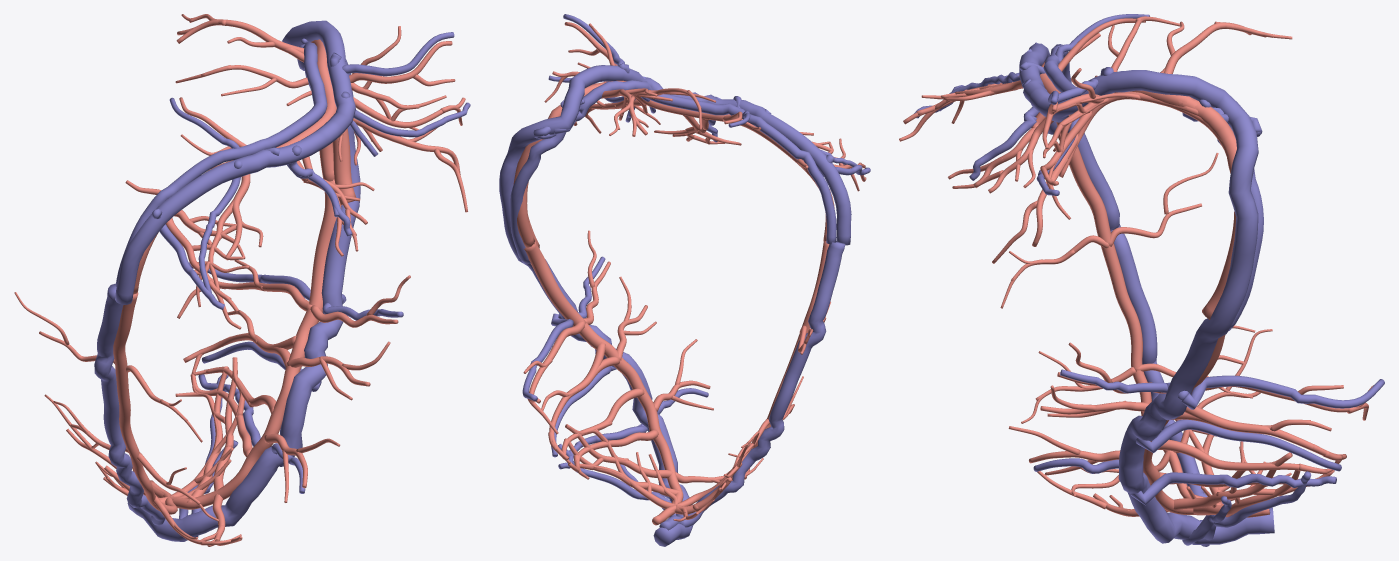
Rendered from vessels_16.glb.
3 renders of one model, left to right at view 1: azimuth 30°, elevation 25°; view 2: azimuth 150°, elevation 25°; view 3: azimuth 270°, elevation 25°, orthographic. The views are drawn at different scales.
Parts seen in each view (by area): view 1: Renderer Node; view 2: Renderer Node; view 3: Renderer Node.
Boxes of the visible parts, x1=… form: Renderer Node: x1=14, y1=14, x2=470, y2=546; Renderer Node: x1=499, y1=14, x2=870, y2=546; Renderer Node: x1=899, y1=14, x2=1384, y2=546.
Size of the model in its own units: 94.42 by 122 by 94.89.
